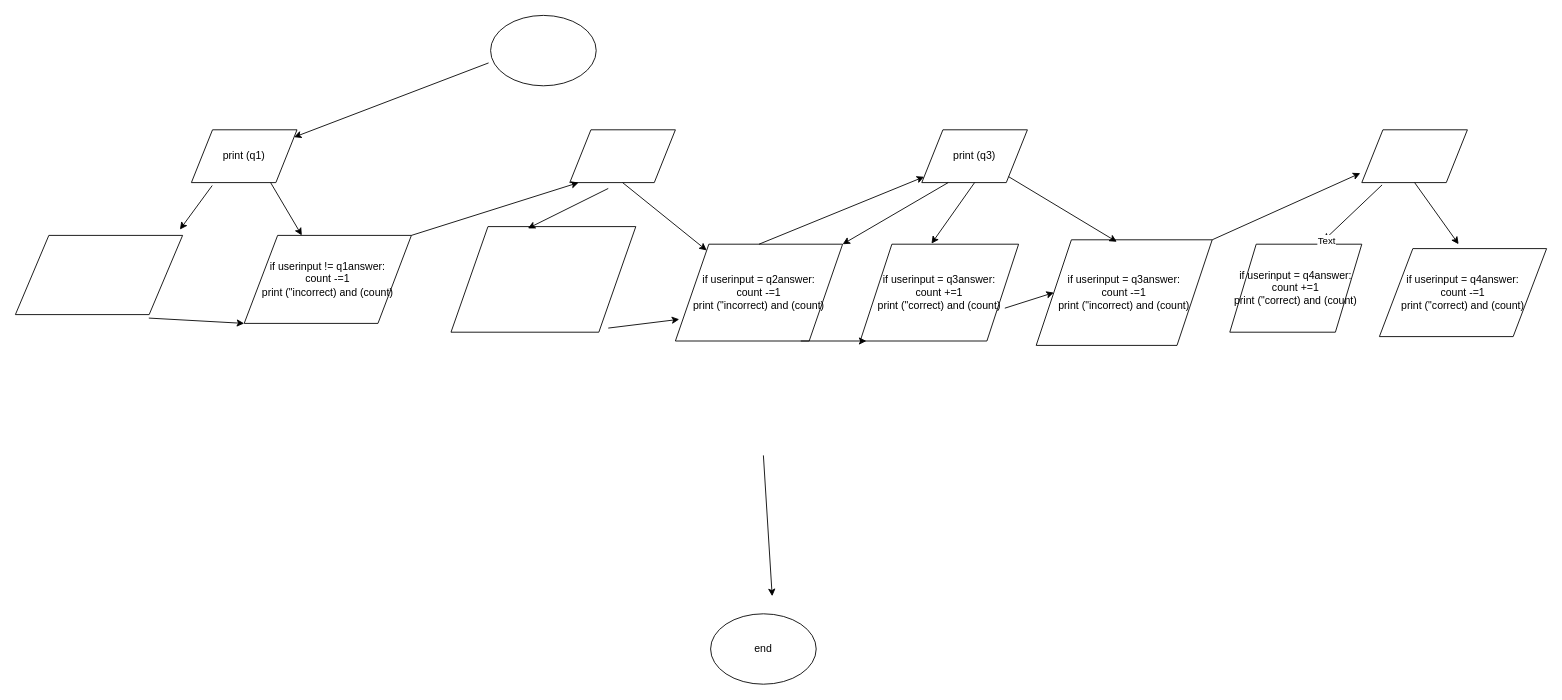
The diagram is 1562 pixels wide and 700 high, and some of its shapes have lost their labels. The centre of each missing label's shape, as x and y in pixels:
if userinput = q1answer: count +=1 print ("correct) and (count): (99,275)
if userinput = q2 answer: count +=1 print ("correct) and (count): (543,279)
print (q2): (622,156)
print (q4): (1414,156)
start count = 0: (543,50)
